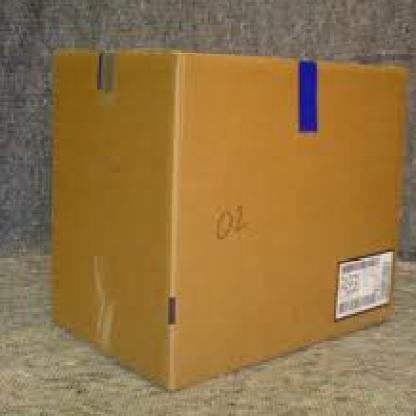label: (335, 248, 393, 323)
package: (51, 49, 406, 391)
